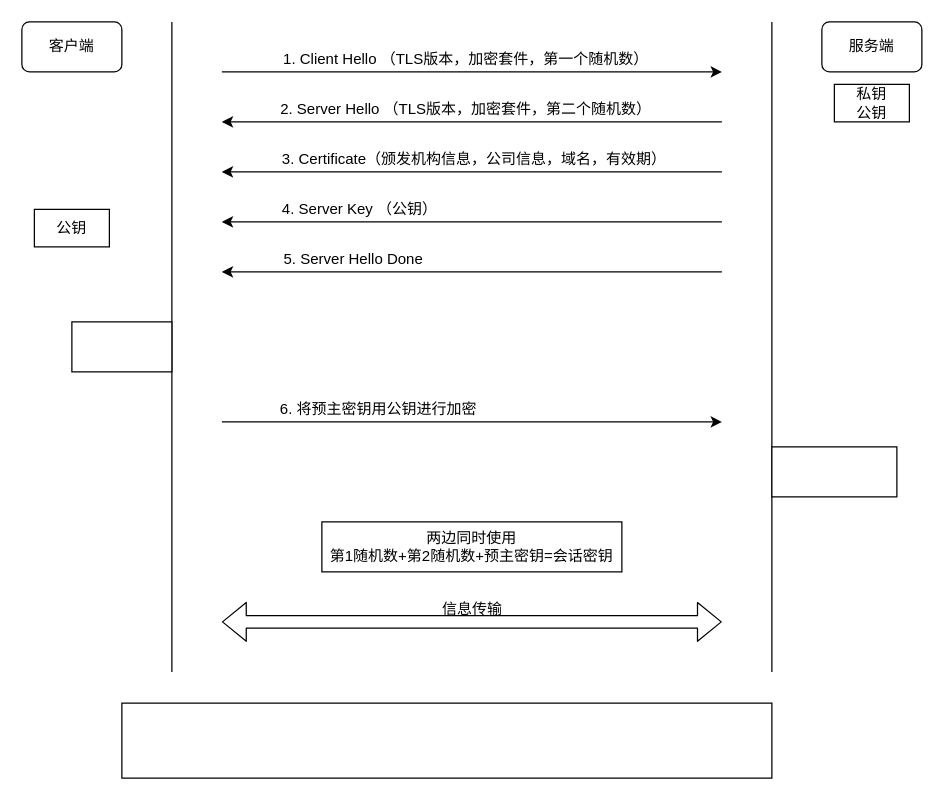
This 944x800 diagram has some shape labels left out. Here are the shapes that lost their labels. From the top down, the centre of each, then its label:
At point 121,346: "生成预主密钥".
At point 834,471: "用私钥对预主密钥进行解密".
At point 446,740: "注： 1. 每次生成的第一第二随机数不同，故每个会话所使用的加密密钥也不同".
